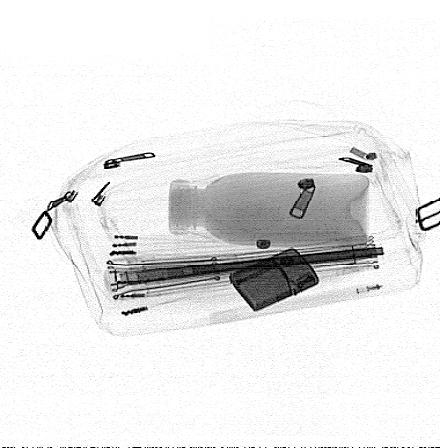Lighter: (228, 248, 320, 312)
